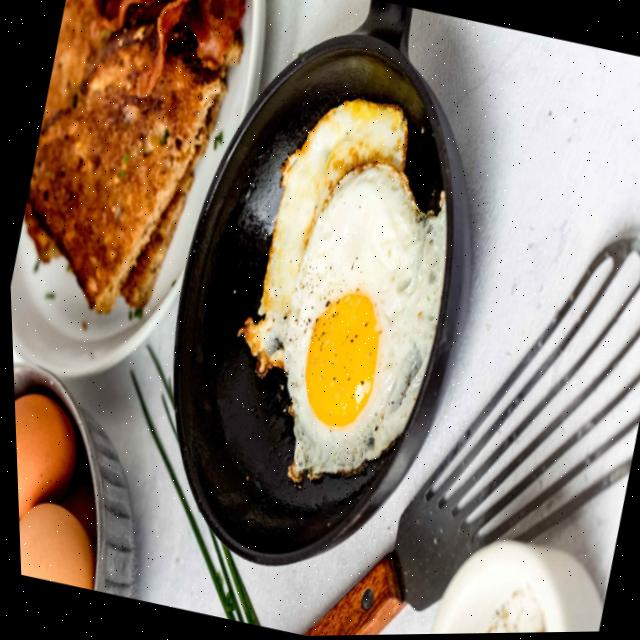Bread: (27, 54, 224, 312)
Egg: (280, 162, 444, 480), (235, 98, 406, 375)
